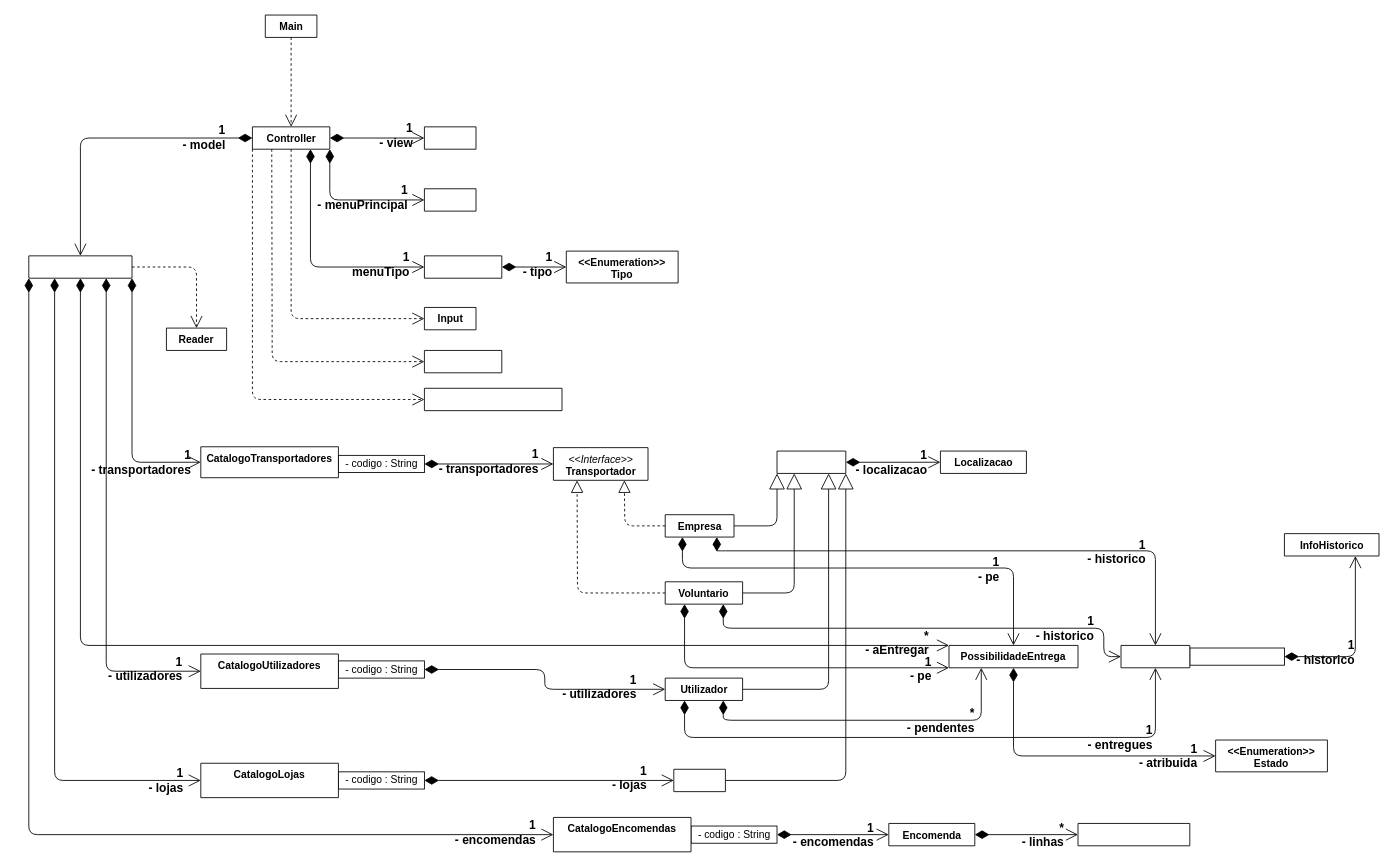
Image size: 1394x867. Some labels were removed from this diagram. Here are the shapes that lost their labels. From the top down, the centre of each, then its label:
the point at 450,137: View
the point at 450,199: Menu
the point at 80,266: Base de Dados
the point at 463,266: MenuTipo
the point at 463,361: Navegador
the point at 493,399: Navegador1Elemento
the point at 811,461: Entidade
the point at 1155,656: Historico
the point at 1236,656: - codigoEnc: Sttring
the point at 699,780: Loja
the point at 1133,834: LinhaEncomenda
